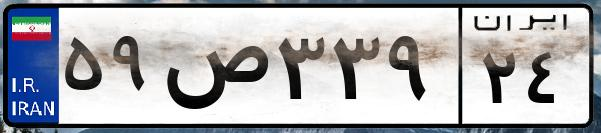2: (475, 38, 525, 113)
3: (270, 28, 330, 110), (330, 28, 385, 110)
4: (525, 38, 570, 115)
5: (57, 26, 110, 100)
9: (385, 28, 445, 110), (110, 28, 158, 98)
ص: (158, 20, 270, 120)
